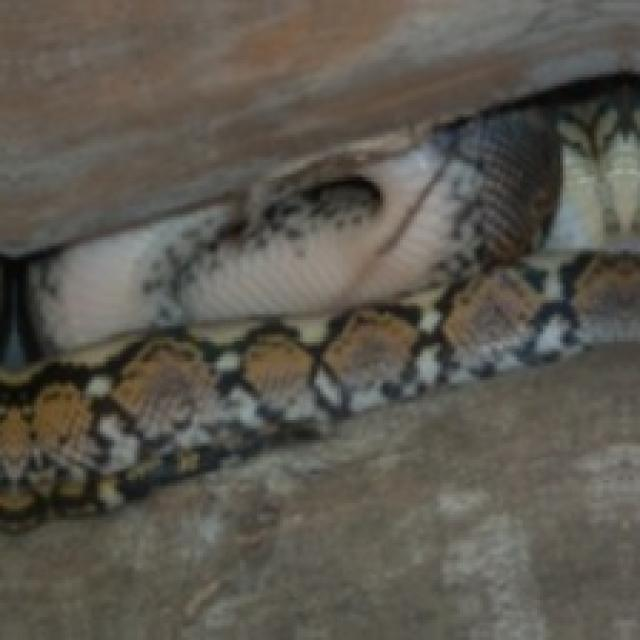reticulated python: (0, 74, 637, 523)
